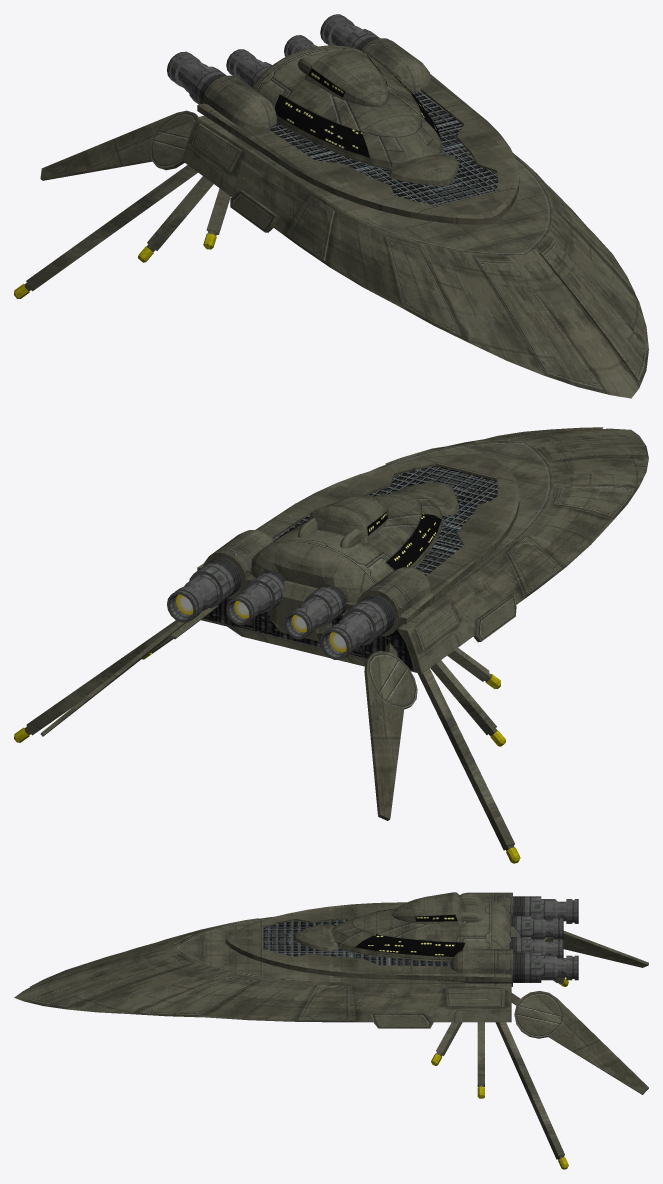
The model's file is Hutt_Cruiser.obj.
3 renders of one model, top to bottom at view 1: azimuth 30°, elevation 25°; view 2: azimuth 150°, elevation 25°; view 3: azimuth 270°, elevation 25°, orthographic. The views are drawn at different scales.
Visible parts, largest first — view 1: Hull, lights; view 2: Hull, lights; view 3: Hull, lights.
Boxes of the visible parts, x1,y1,x2,y2 form: Hull: [14, 14, 648, 398]; lights: [275, 55, 441, 157]; Hull: [14, 427, 648, 863]; lights: [176, 511, 441, 652]; Hull: [14, 892, 648, 1169]; lights: [355, 908, 497, 983].
Size of the model in its own units: 238 by 108 by 342.
